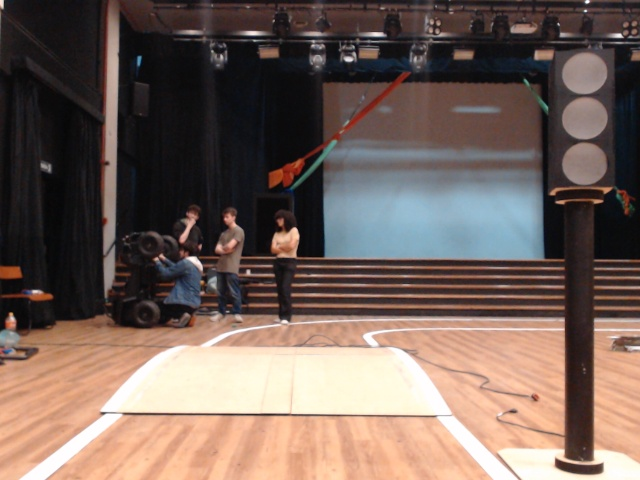SEMAFORO: (534, 38, 631, 210)
